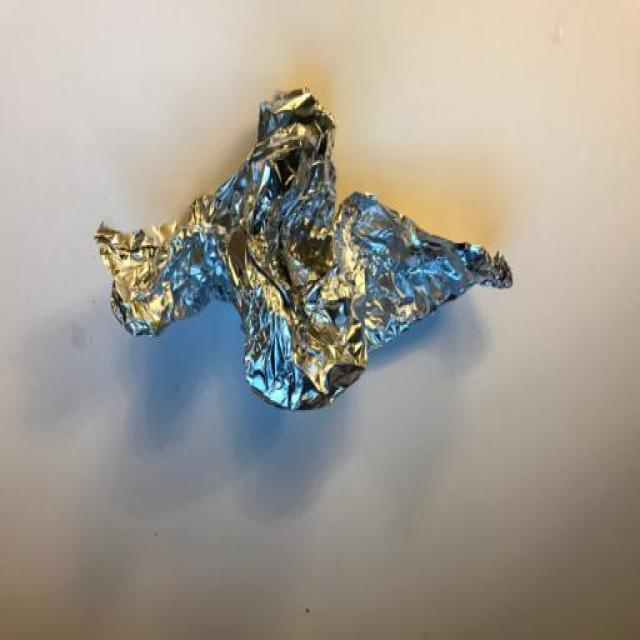Metal: (95, 87, 512, 412)
